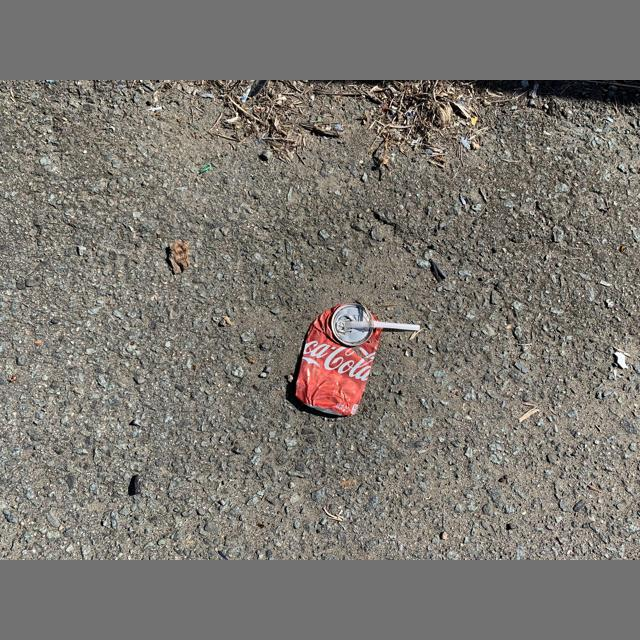litter: (295, 303, 383, 416), (346, 321, 419, 331), (429, 258, 447, 282), (337, 319, 352, 333)
